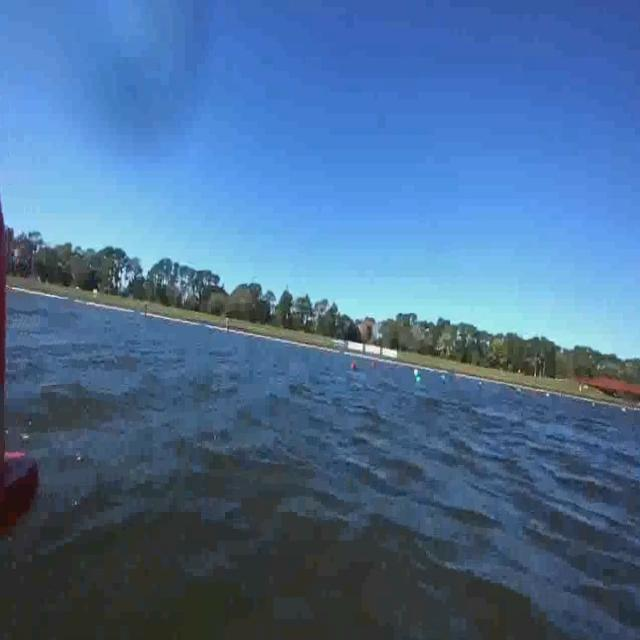red-column-buoy: (0, 192, 35, 538)
